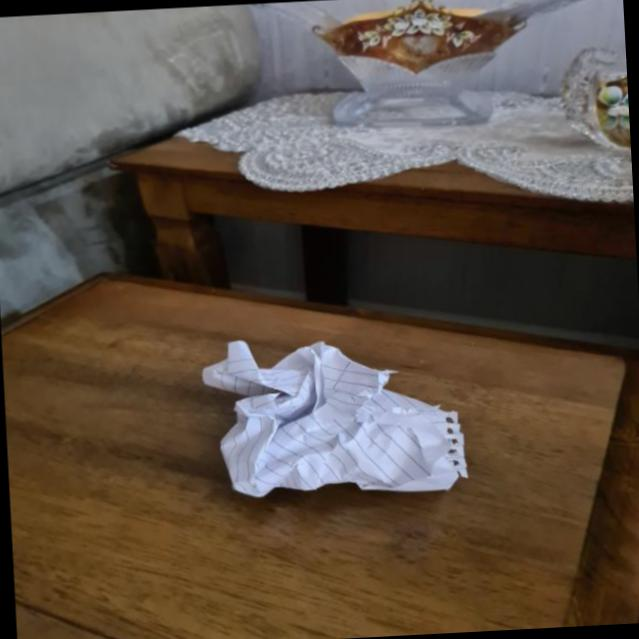cardboard paper: (201, 339, 465, 495)
